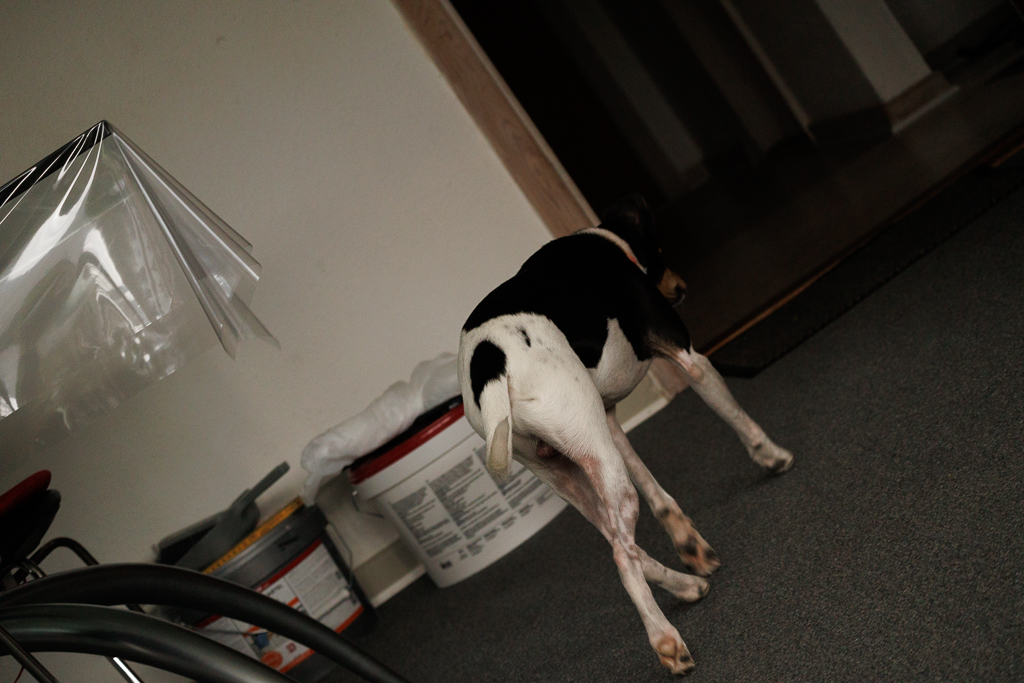Dog: (450, 203, 804, 683)
